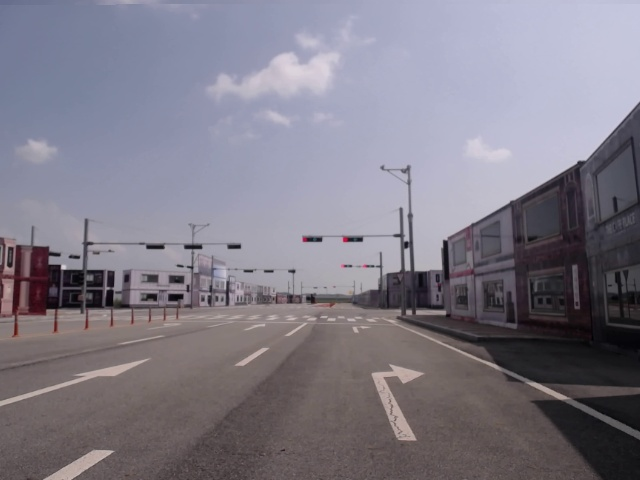left_green_4: (343, 236, 362, 242), (303, 235, 321, 241)
